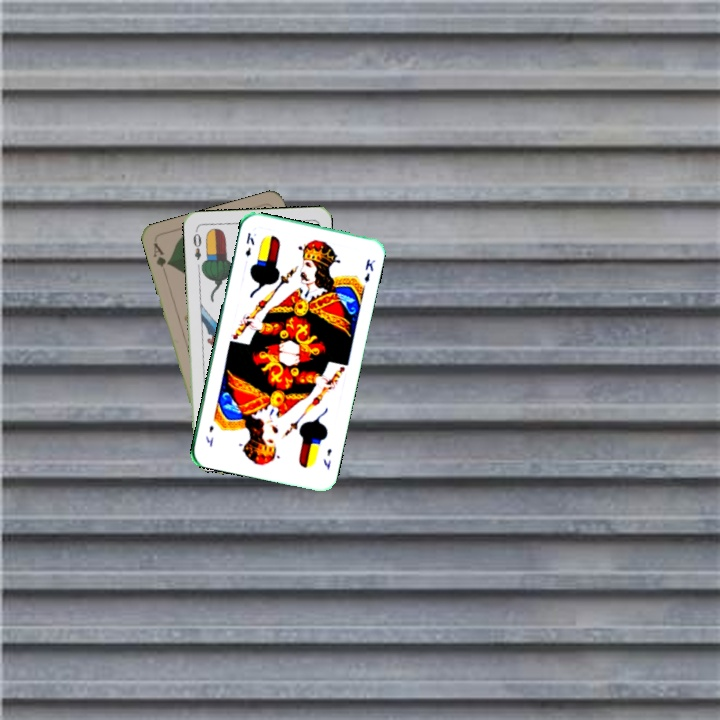EK: (241, 229, 257, 259), (319, 445, 334, 472)
EO: (189, 226, 204, 262)
GA: (149, 239, 172, 278)
